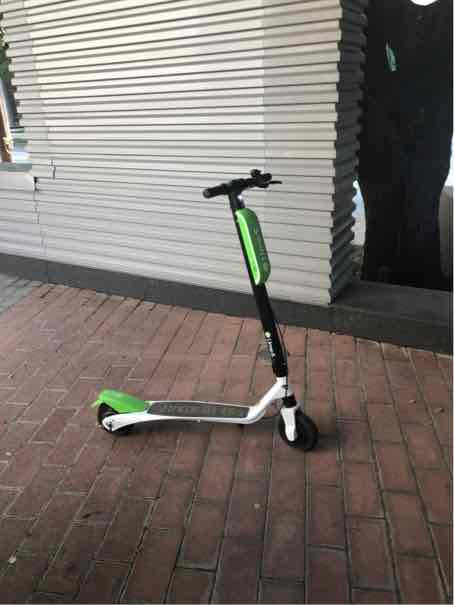scooter: (91, 148, 315, 452)
